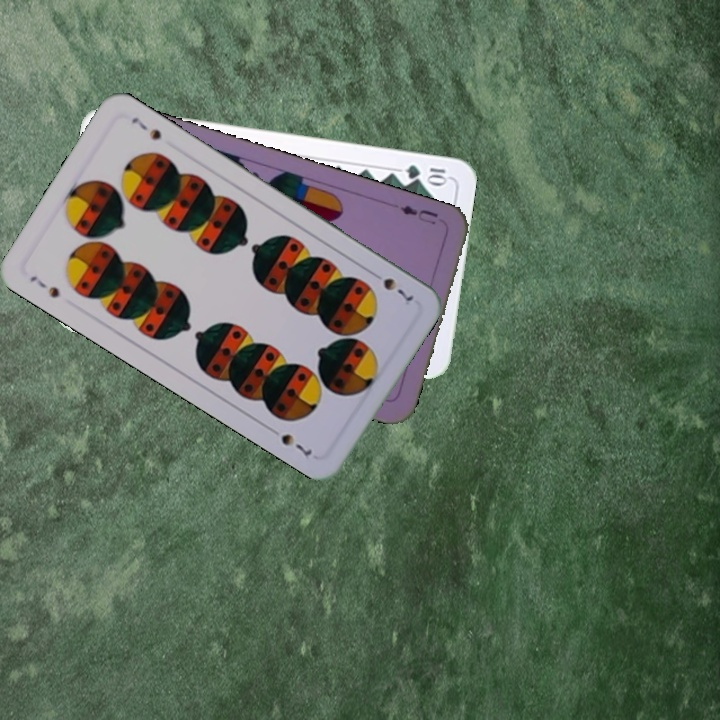EU: (396, 201, 441, 228)
G10: (402, 161, 450, 186)
S7: (366, 267, 417, 304), (25, 271, 62, 301)
